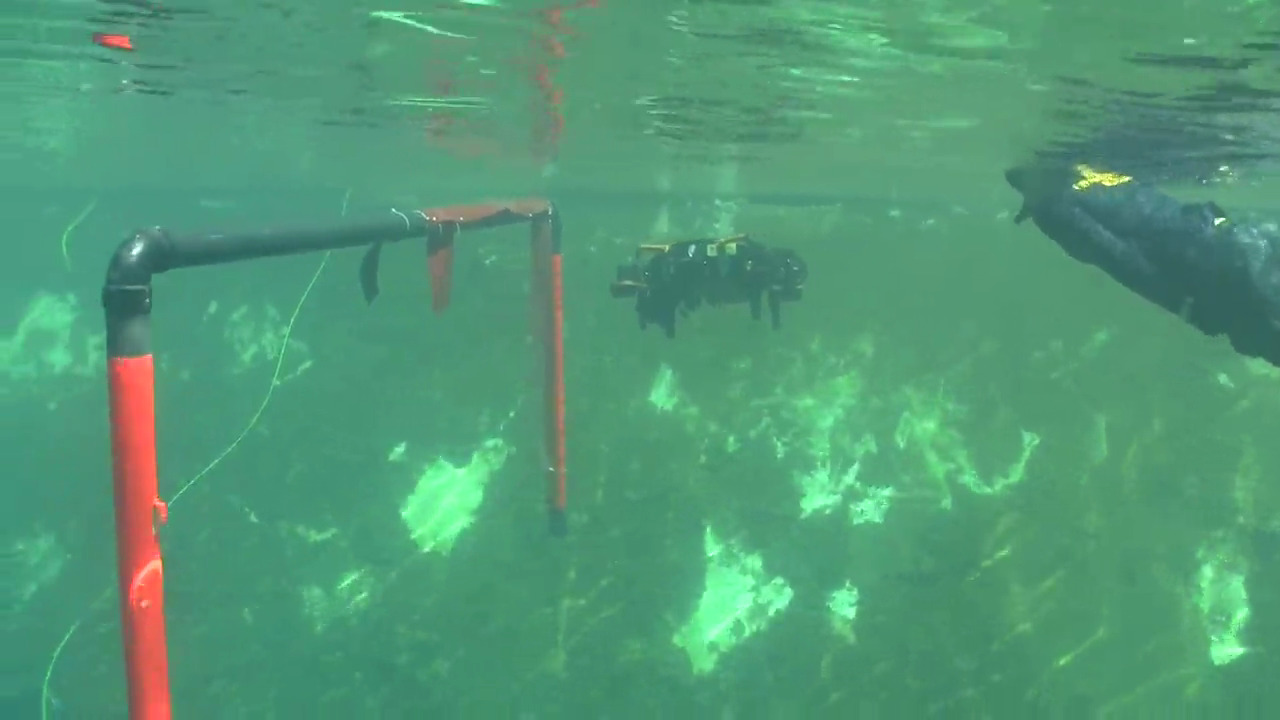gate: (100, 195, 580, 720)
